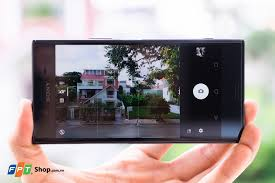sony: (29, 36, 246, 146)
